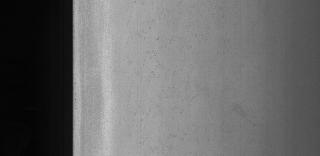silk spot: (128, 4, 196, 132)
